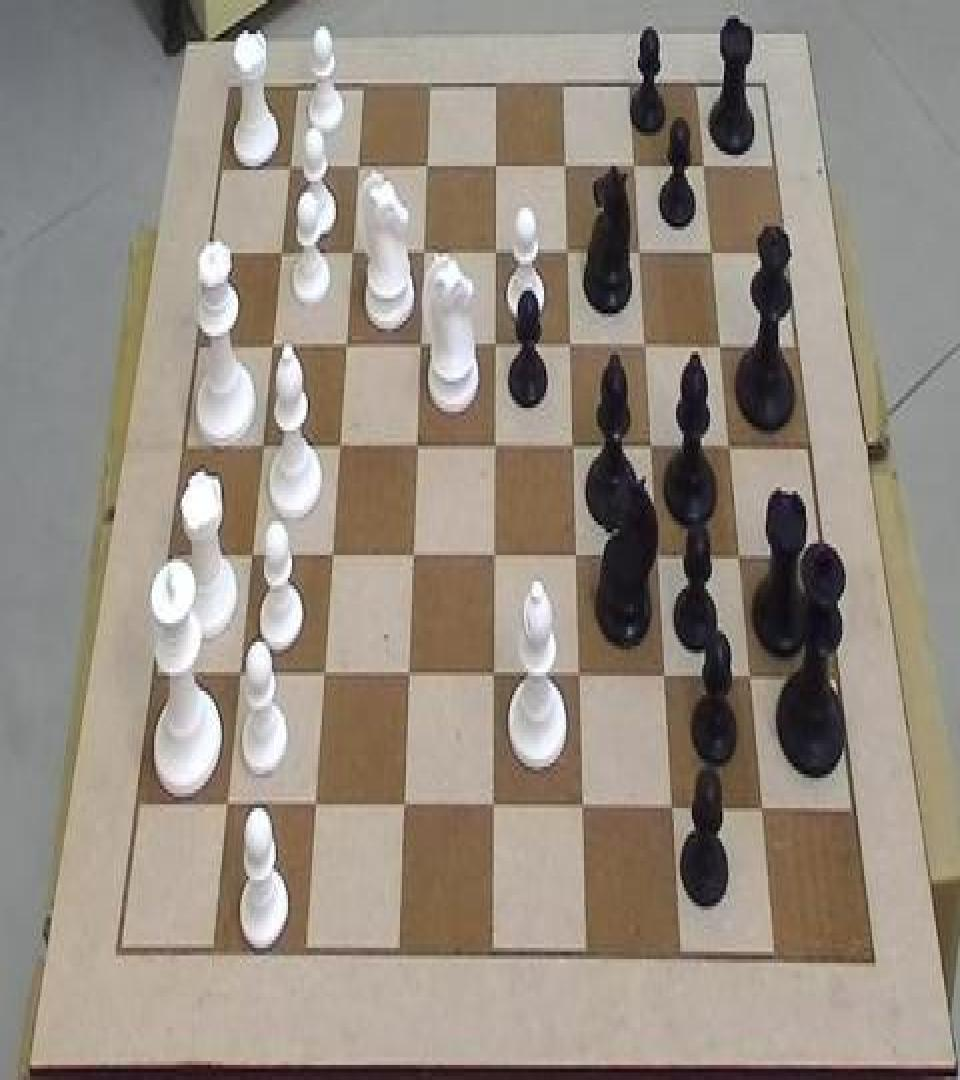xcorner: (711, 330, 731, 369), (635, 330, 655, 369), (559, 330, 579, 369), (483, 330, 503, 369), (408, 330, 428, 369), (695, 151, 715, 189), (624, 151, 644, 189), (554, 151, 574, 189), (484, 151, 504, 189), (414, 151, 434, 189), (345, 151, 365, 189), (276, 151, 296, 189), (703, 238, 723, 276), (629, 238, 649, 276), (556, 238, 576, 276), (484, 238, 504, 276), (411, 238, 431, 276), (339, 238, 359, 276), (268, 238, 288, 276), (333, 328, 353, 366), (259, 328, 279, 366), (720, 432, 740, 470), (641, 430, 661, 468), (562, 430, 582, 468), (483, 430, 503, 468), (405, 430, 425, 468), (327, 428, 347, 466), (249, 428, 269, 466), (731, 542, 751, 580), (648, 542, 668, 580), (565, 540, 585, 578), (483, 540, 503, 578), (401, 538, 421, 576), (320, 538, 340, 576), (239, 536, 259, 574), (742, 662, 762, 700), (655, 660, 675, 698), (568, 660, 588, 698), (482, 659, 502, 697), (397, 657, 417, 695), (312, 657, 332, 695), (228, 655, 248, 693), (754, 795, 774, 833), (663, 793, 683, 831), (572, 791, 592, 829), (482, 789, 502, 827), (393, 787, 413, 825), (304, 786, 324, 824), (215, 786, 235, 824)
